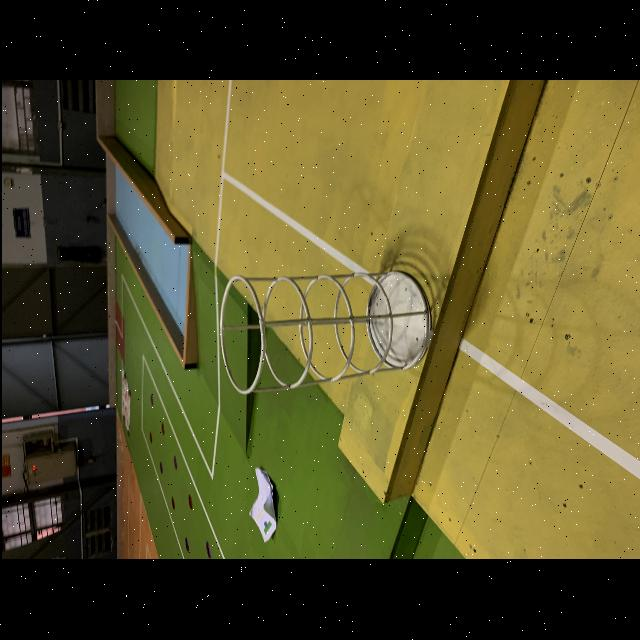S: (218, 268, 434, 398)
